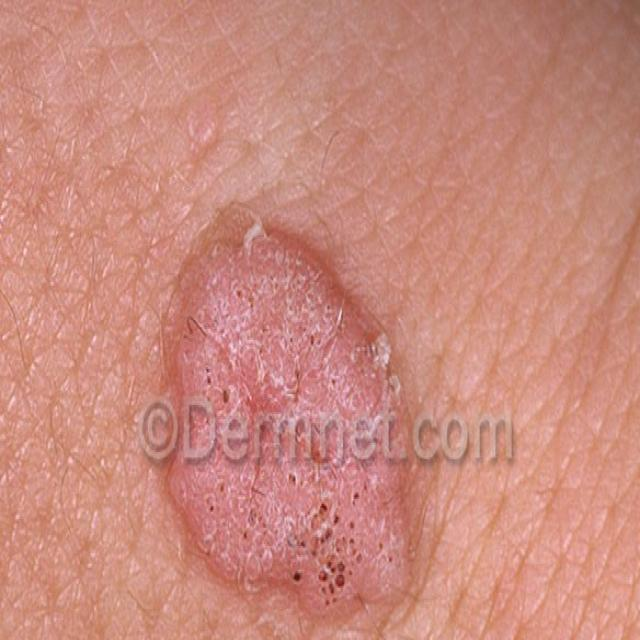Warts: (147, 184, 433, 640)
